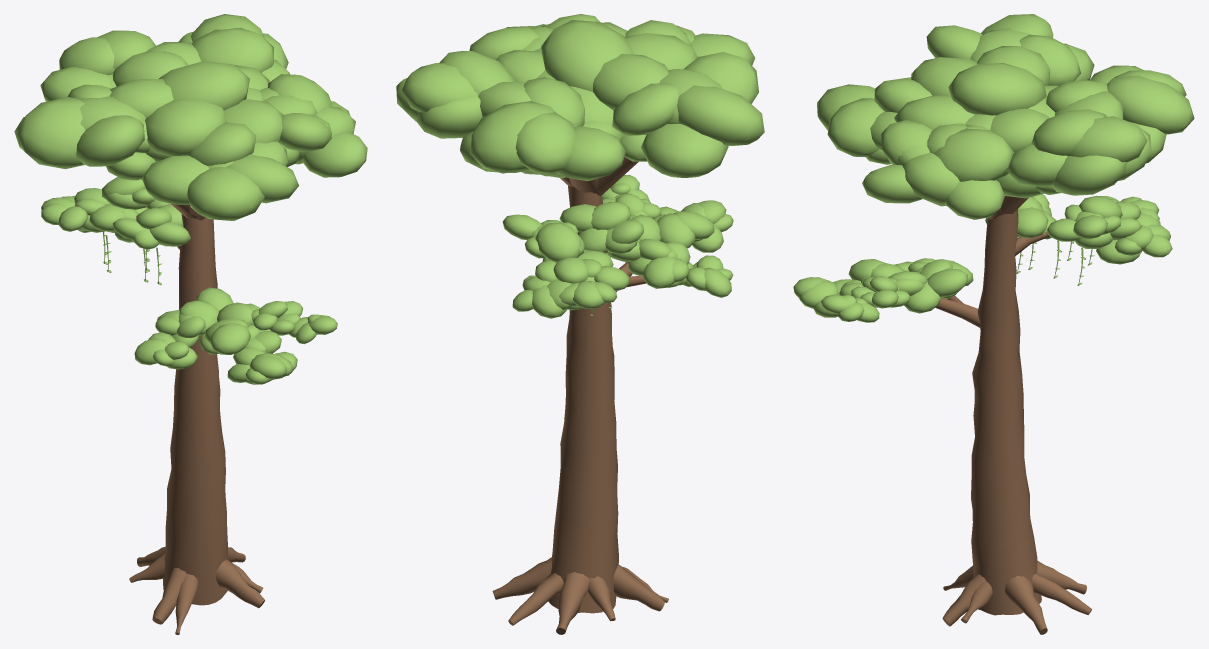
File: SM_FirstSteps_Tree_05.glb
3 views of the same model, side by side, from view 1: azimuth 30°, elevation 25°; view 2: azimuth 150°, elevation 25°; view 3: azimuth 270°, elevation 25° (orthographic). The views are drawn at different scales.
Parts seen in each view (by area): view 1: CrownMesh, Trunk, BoughMeshA, BoughMeshB; view 2: CrownMesh, Trunk, BoughMeshB, BoughMeshA; view 3: CrownMesh, Trunk, BoughMeshA, BoughMeshB.
Part boxes in pixels (bbox=[...]): CrownMesh: bbox=[14, 14, 367, 220]; Trunk: bbox=[129, 214, 264, 634]; BoughMeshA: bbox=[134, 287, 337, 384]; BoughMeshB: bbox=[41, 177, 190, 284]; CrownMesh: bbox=[396, 14, 764, 195]; Trunk: bbox=[492, 186, 668, 634]; BoughMeshB: bbox=[502, 201, 643, 318]; BoughMeshA: bbox=[601, 174, 733, 297]; CrownMesh: bbox=[817, 14, 1194, 219]; Trunk: bbox=[942, 209, 1091, 634]; BoughMeshA: bbox=[793, 258, 980, 327]; BoughMeshB: bbox=[985, 194, 1172, 285].
Bounding box in the file's own units: 35.92 × 59.9 × 39.7.
